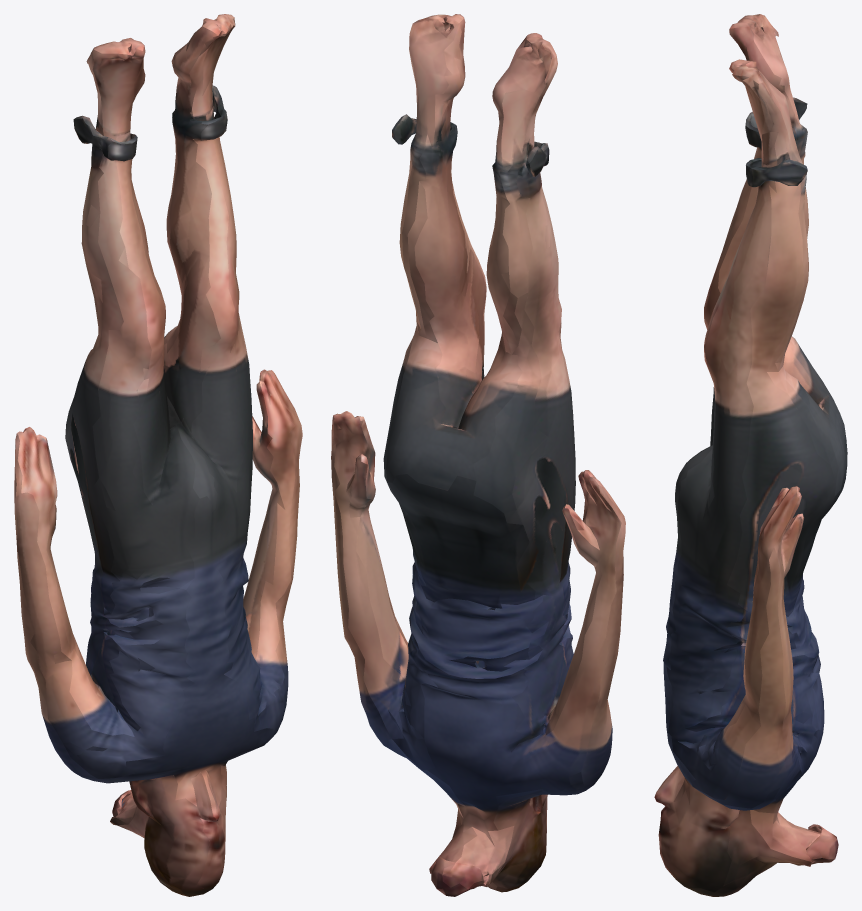
The model's file is ghost_hanging.glb.
The picture shows the model from 3 angles, left to right: view 1: azimuth 30°, elevation 25°; view 2: azimuth 150°, elevation 25°; view 3: azimuth 270°, elevation 25°; orthographic projection. The views are drawn at different scales.
Visible parts, largest first — view 1: geometry_0; view 2: geometry_0; view 3: geometry_0.
Boxes of the visible parts, x1,y1,x2,y2 form: geometry_0: (14, 14, 302, 896); geometry_0: (331, 14, 625, 896); geometry_0: (654, 14, 847, 896).
Size of the model in its own units: 0.6329 by 1.8 by 0.3694.
Materials: 1 (1 with a texture image).
